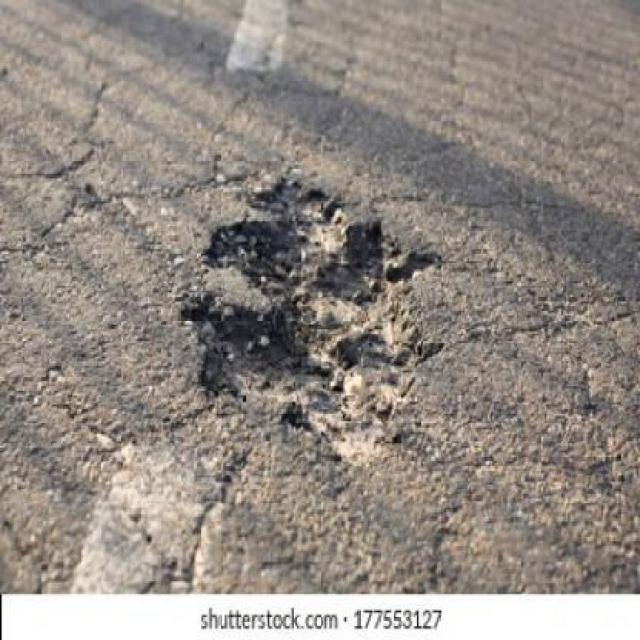Pothole: (185, 178, 444, 464)
